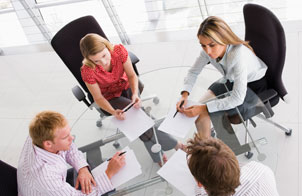Person: (175, 15, 271, 118), (16, 110, 128, 196), (79, 32, 141, 121)
